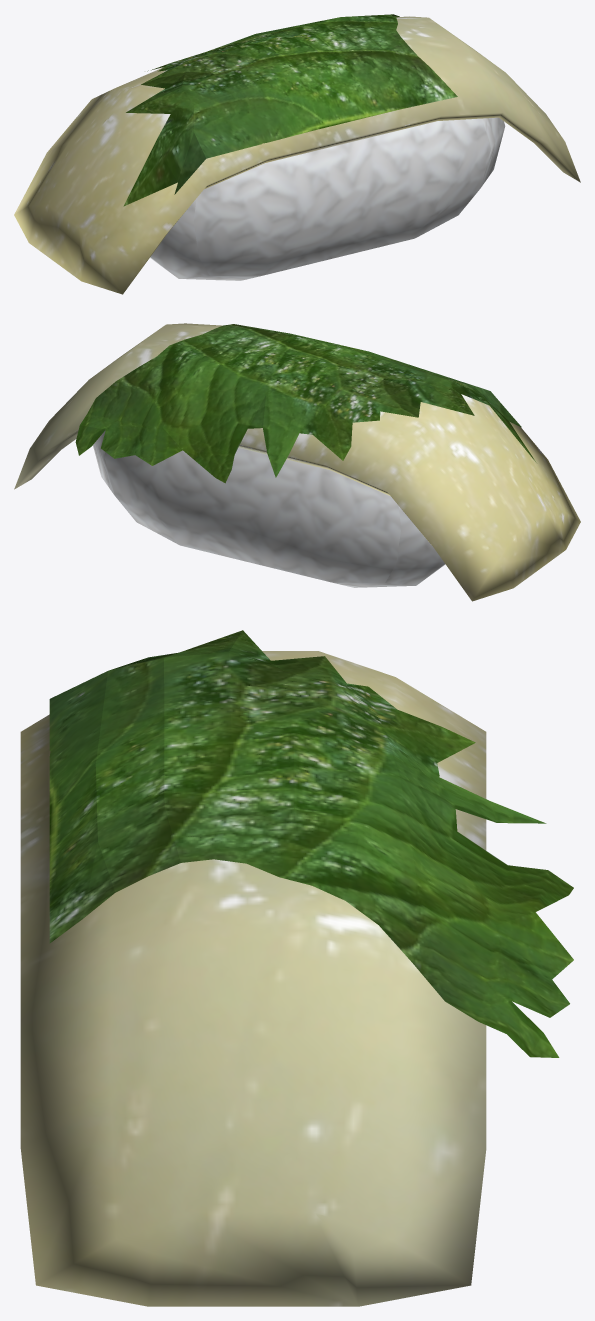
Rendered from squid_3.fbx.
3 renders of one model, top to bottom at view 1: azimuth 30°, elevation 25°; view 2: azimuth 150°, elevation 25°; view 3: azimuth 270°, elevation 25°, orthographic. The views are drawn at different scales.
Parts seen in each view (by area): view 1: squid_3; view 2: squid_3; view 3: squid_3.
Boxes of the visible parts, left/top/right/bottom form: squid_3: left=14, top=14, right=580, bottom=294; squid_3: left=14, top=323, right=580, bottom=601; squid_3: left=20, top=630, right=573, bottom=1306.
Size of the model in its own units: 7.62 by 2.98 by 3.77.
